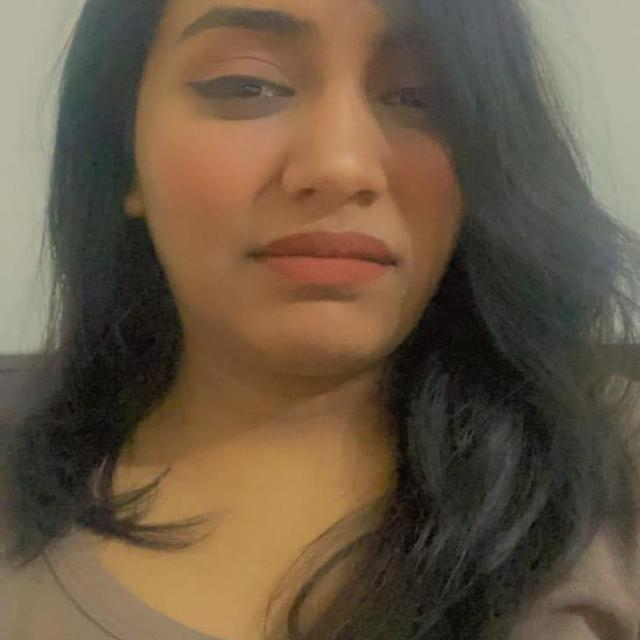Disgust: (59, 8, 567, 434)
